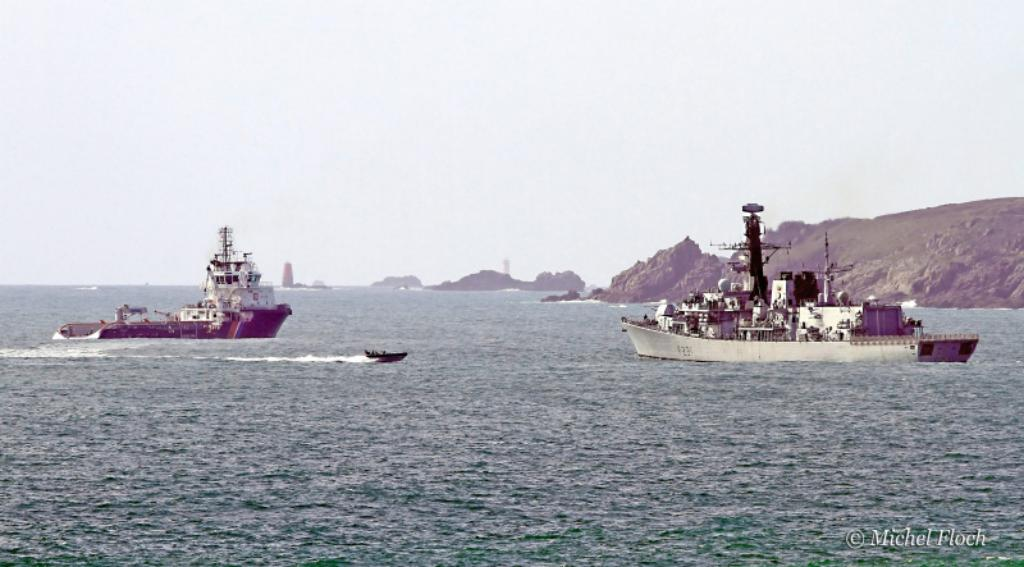Warship: (619, 194, 987, 370)
